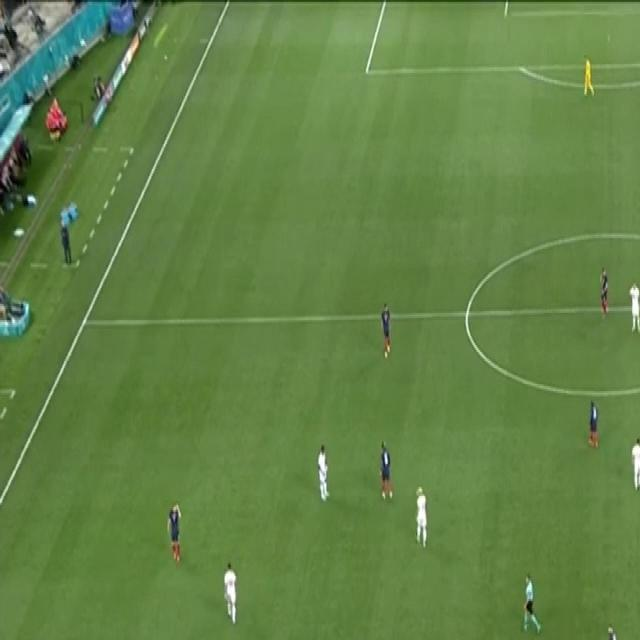player-white: (164, 499, 186, 570), (220, 558, 240, 632), (410, 482, 430, 552), (523, 570, 543, 636), (378, 296, 396, 362), (316, 440, 332, 506), (378, 439, 394, 505), (585, 398, 602, 454), (595, 266, 611, 321), (627, 279, 640, 336), (627, 436, 640, 492), (581, 52, 595, 98), (603, 620, 619, 640)
